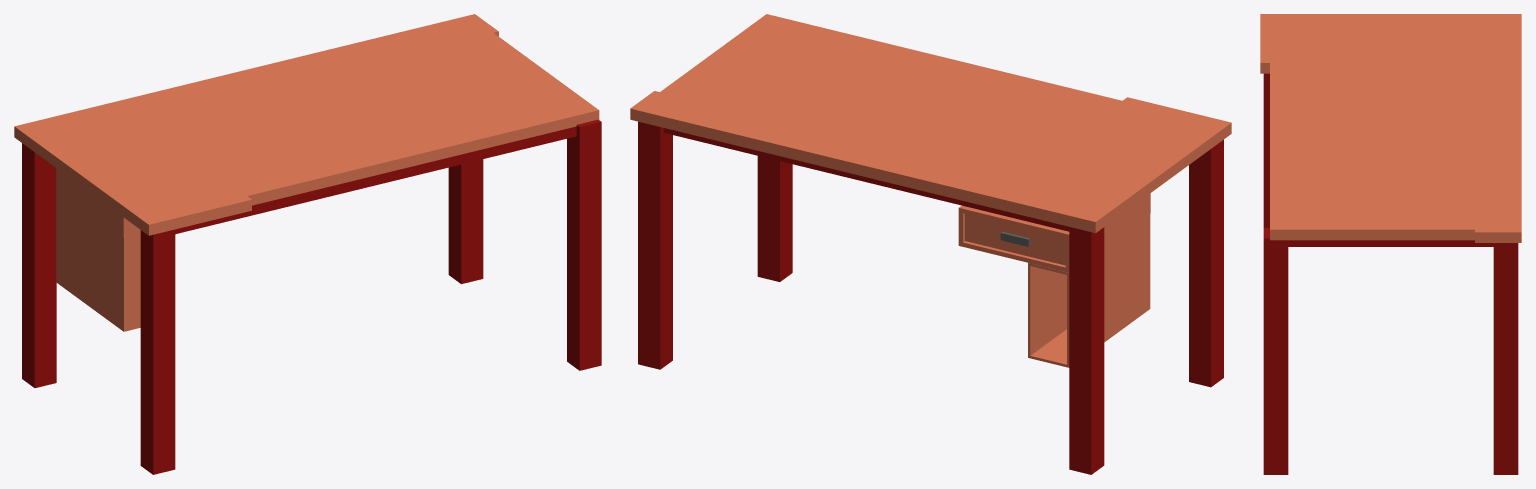
Rendered from VisioTable.fbx.
3 views of the same model, side by side, from view 1: azimuth 30°, elevation 25°; view 2: azimuth 150°, elevation 25°; view 3: azimuth 270°, elevation 25° (orthographic). The views are drawn at different scales.
Visible parts, largest first — view 1: Table, TableTiltable; view 2: Table, TableTiltable; view 3: TableTiltable, Table.
Boxes of the visible parts, x1,y1,x2,y2 form: Table: [14, 14, 601, 474]; TableTiltable: [142, 33, 599, 205]; Table: [630, 91, 1231, 474]; TableTiltable: [660, 14, 1121, 178]; TableTiltable: [1270, 63, 1474, 240]; Table: [1260, 14, 1521, 474].
Bounding box in the file's own units: 120 × 62.88 × 60.64.
